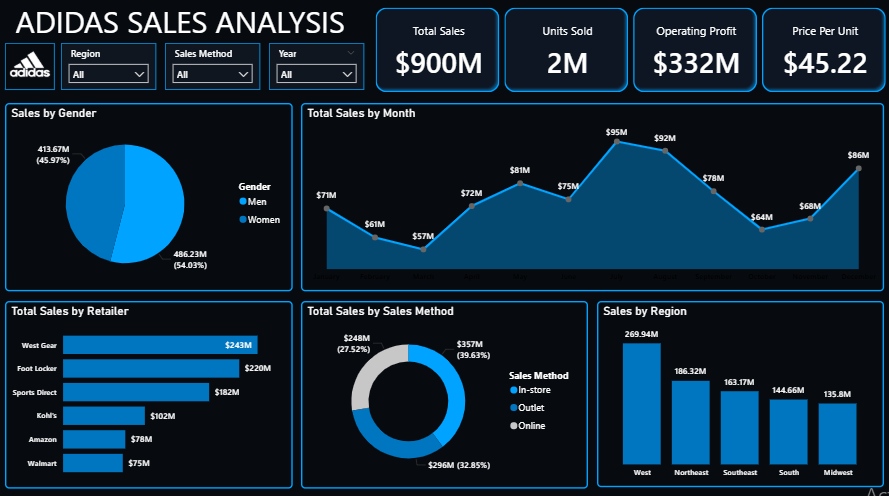

This screenshot's page, from the dashboard's own definition file:
{"tool":"powerbi","page":{"name":"Page 1","canvas":[1280,720],"ordinal":0},"visuals":[{"type":"cardVisual","fields":{"Data":["Sum(adidas_sales adidas_data.total_sales)","Sum(adidas_sales adidas_data.units_sold)","Sum(adidas_sales adidas_data.operating_profit)","Avg(adidas_sales adidas_data.price_per_unit)"]},"box":[537.2,9.9,742.7,131.8],"z":0},{"type":"areaChart","fields":{"Y":["Sum(adidas_sales adidas_data.total_sales)"],"Category":["adidas_sales adidas_data.invoice_date.Variation.Date Hierarchy.Month"]},"box":[435.1,151.7,833.4,269.3],"z":1000},{"type":"donutChart","fields":{"Category":["adidas_sales adidas_data.sales_method","adidas_sales adidas_data.region"],"Y":["Sum(adidas_sales adidas_data.total_sales)"]},"box":[435.1,433.7,409.6,267.9],"z":2000},{"type":"barChart","fields":{"Category":["adidas_sales adidas_data.retailer"],"Y":["Sum(adidas_sales adidas_data.total_sales)"]},"box":[12.8,433.7,411,267.9],"z":3000},{"type":"columnChart","fields":{"Category":["adidas_sales adidas_data.region"],"Y":["adidas_sales adidas_data.Sales"]},"box":[858.9,433.7,409.6,266.5],"z":4000},{"type":"pieChart","fields":{"Category":["adidas_sales adidas_data.gender_type"],"Y":["adidas_sales adidas_data.Sales"]},"box":[12.8,151.7,411,269.3],"z":5000},{"type":"slicer","fields":{"Values":["adidas_sales adidas_data.region"]},"box":[93.5,65.2,136.1,66.6],"z":6000},{"type":"slicer","fields":{"Values":["adidas_sales adidas_data.invoice_date.Variation.Date Hierarchy.Year"]},"box":[389.8,65.2,136.1,66.6],"z":7000},{"type":"slicer","fields":{"Values":["adidas_sales adidas_data.sales_method"]},"box":[240.9,65.2,136.1,66.6],"z":8000},{"type":"textbox","box":[22.7,0,490.4,83.6],"z":9000},{"type":"image","box":[12.8,65.2,70.9,66.6],"z":10000}]}

Visuals, with their boxes in screenshot pixels (x1, y1, x2, y2), scaled from the page's 1280x720 canvas onto the 889x496 screenshot:
cardVisual - Sum(adidas_sales adidas_data.total_sales) x Sum(adidas_sales adidas_data.units_sold): [x1=373, y1=7, x2=888, y2=98]
areaChart - Sum(adidas_sales adidas_data.total_sales) x adidas_sales adidas_data.invoice_date.Variation.Date Hierarchy.Month: [x1=302, y1=105, x2=881, y2=290]
donutChart - adidas_sales adidas_data.sales_method x adidas_sales adidas_data.region: [x1=302, y1=299, x2=587, y2=483]
barChart - adidas_sales adidas_data.retailer x Sum(adidas_sales adidas_data.total_sales): [x1=9, y1=299, x2=294, y2=483]
columnChart - adidas_sales adidas_data.region x adidas_sales adidas_data.Sales: [x1=597, y1=299, x2=881, y2=482]
pieChart - adidas_sales adidas_data.gender_type x adidas_sales adidas_data.Sales: [x1=9, y1=105, x2=294, y2=290]
slicer - adidas_sales adidas_data.region: [x1=65, y1=45, x2=159, y2=91]
slicer - adidas_sales adidas_data.invoice_date.Variation.Date Hierarchy.Year: [x1=271, y1=45, x2=365, y2=91]
slicer - adidas_sales adidas_data.sales_method: [x1=167, y1=45, x2=262, y2=91]
textbox: [x1=16, y1=0, x2=356, y2=58]
image: [x1=9, y1=45, x2=58, y2=91]
